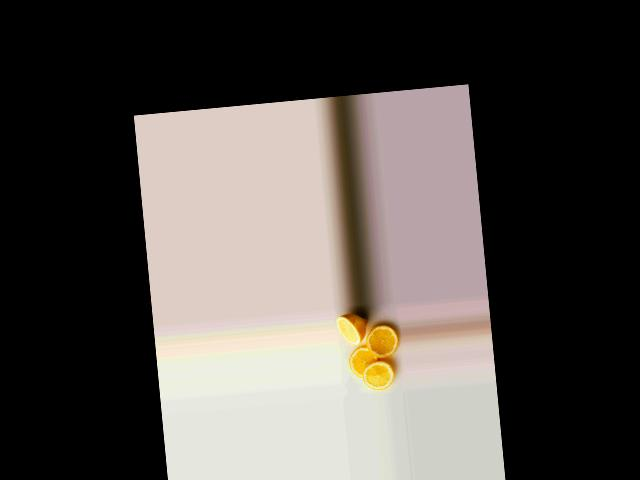lemon: (335, 310, 366, 346)
